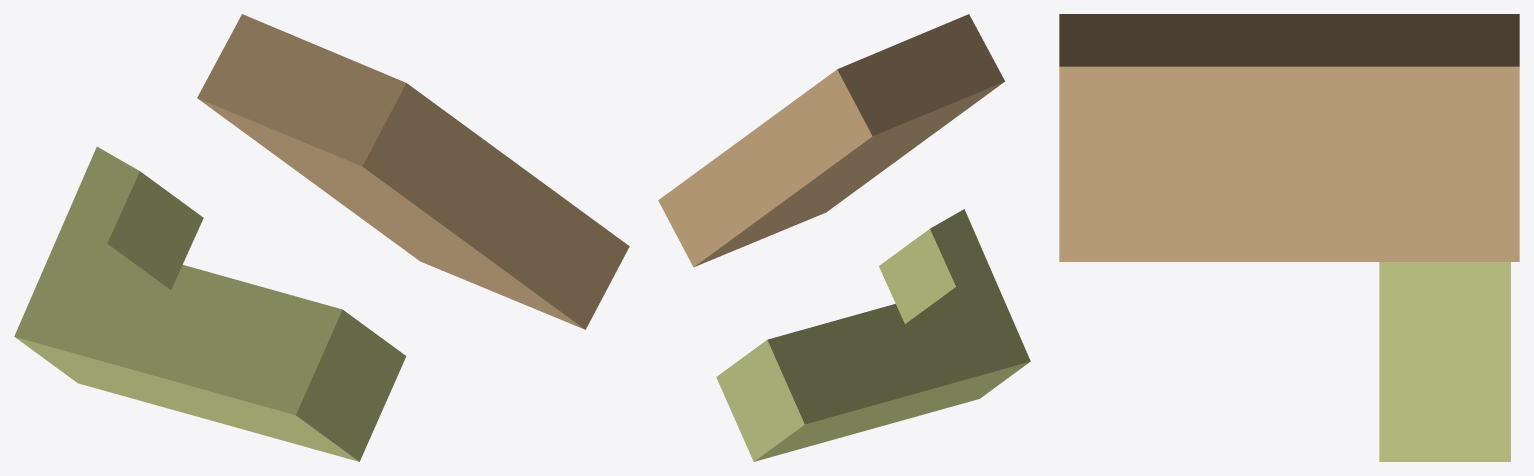
3 views of the same model, side by side, from view 1: azimuth 30°, elevation 25°; view 2: azimuth 150°, elevation 25°; view 3: azimuth 270°, elevation 25° (orthographic). The views are drawn at different scales.
Parts seen in each view (by area): view 1: 0_1_0_2_0_0_0_0_3_0; view 2: 0_1_0_2_0_0_0_0_3_0; view 3: 0_1_0_2_0_0_0_0_3_0.
Boxes of the visible parts, x1,y1,x2,y2 form: 0_1_0_2_0_0_0_0_3_0: (14, 14, 629, 461); 0_1_0_2_0_0_0_0_3_0: (658, 14, 1030, 461); 0_1_0_2_0_0_0_0_3_0: (1059, 14, 1519, 461).
Size of the model in its own units: 21.54 by 21.29 by 21.
